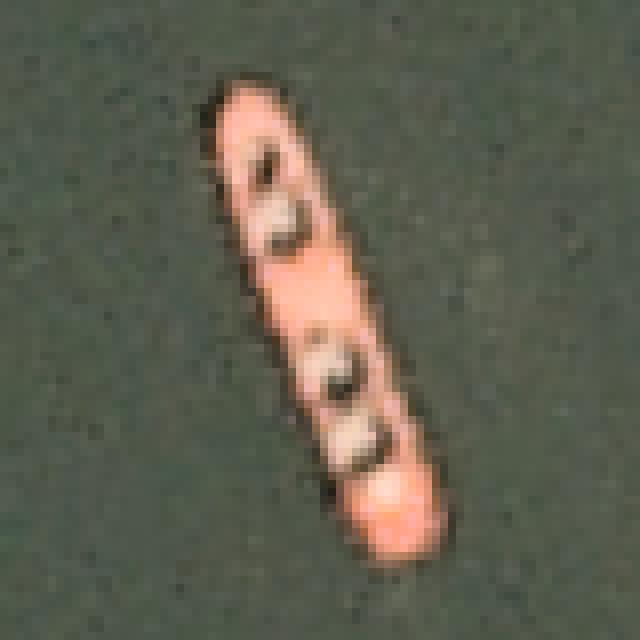ship: (182, 50, 494, 585)
